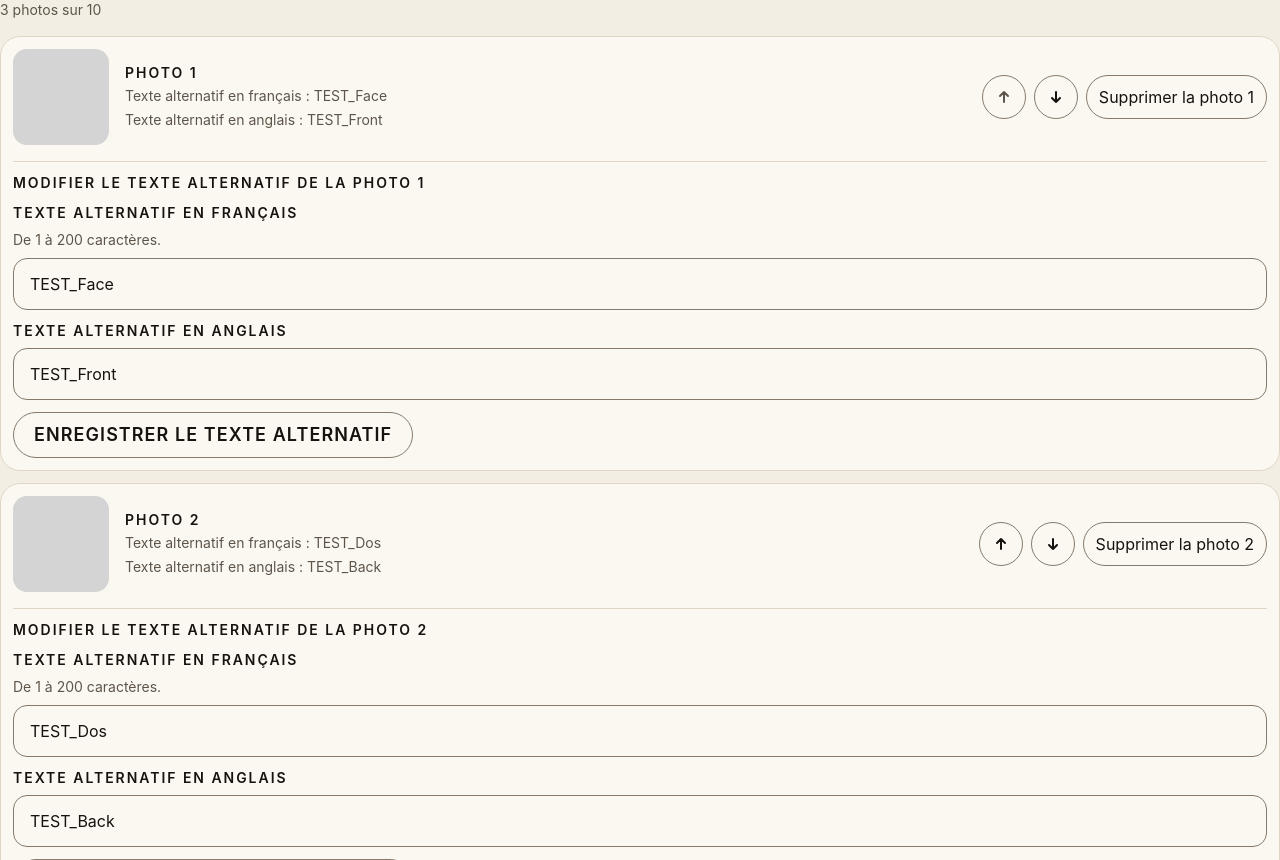
suppression d'une photo › Échap ferme la confirmation sans rien supprimer
This screenshot has width=1280, height=860.
Click the button "Supprimer la photo 1" at [1176, 97], box [1086, 75, 1267, 119]
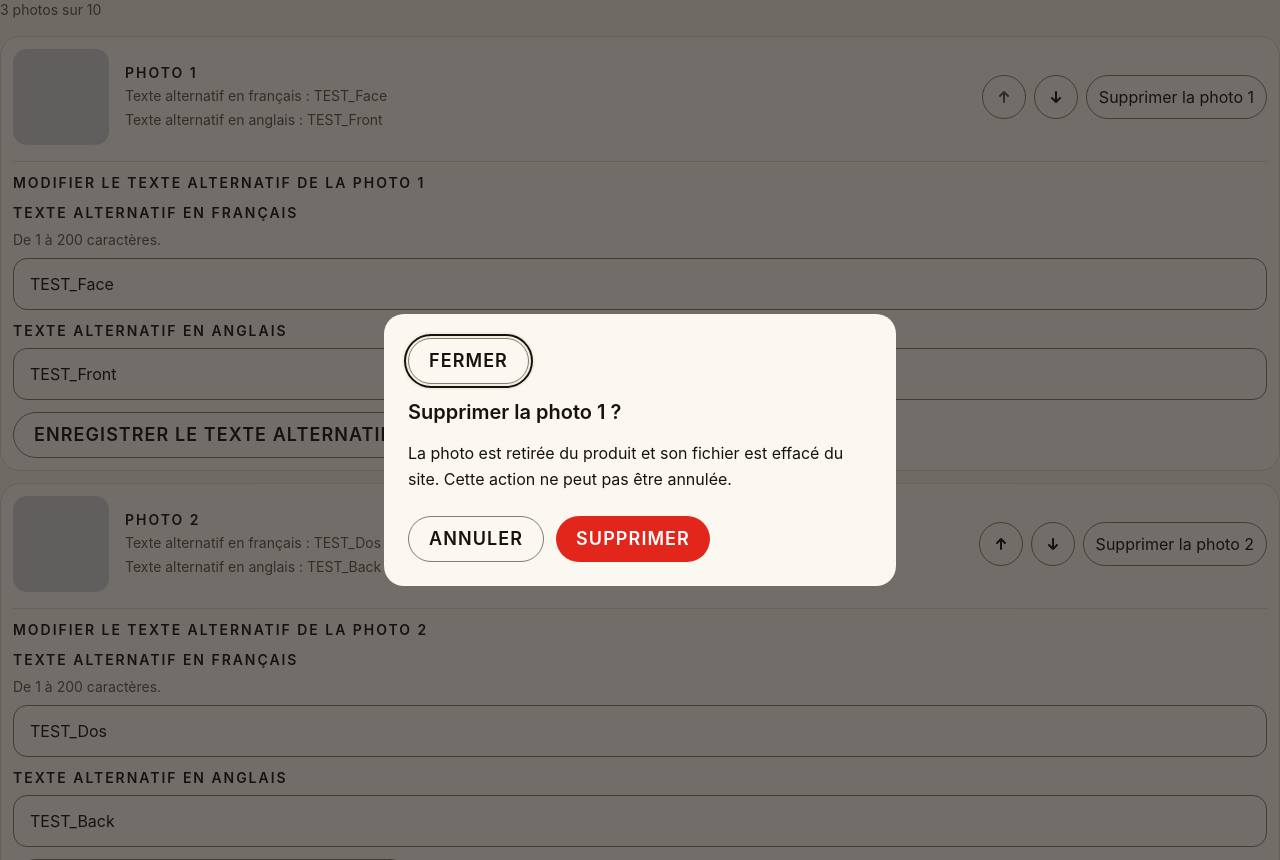
Press Escape
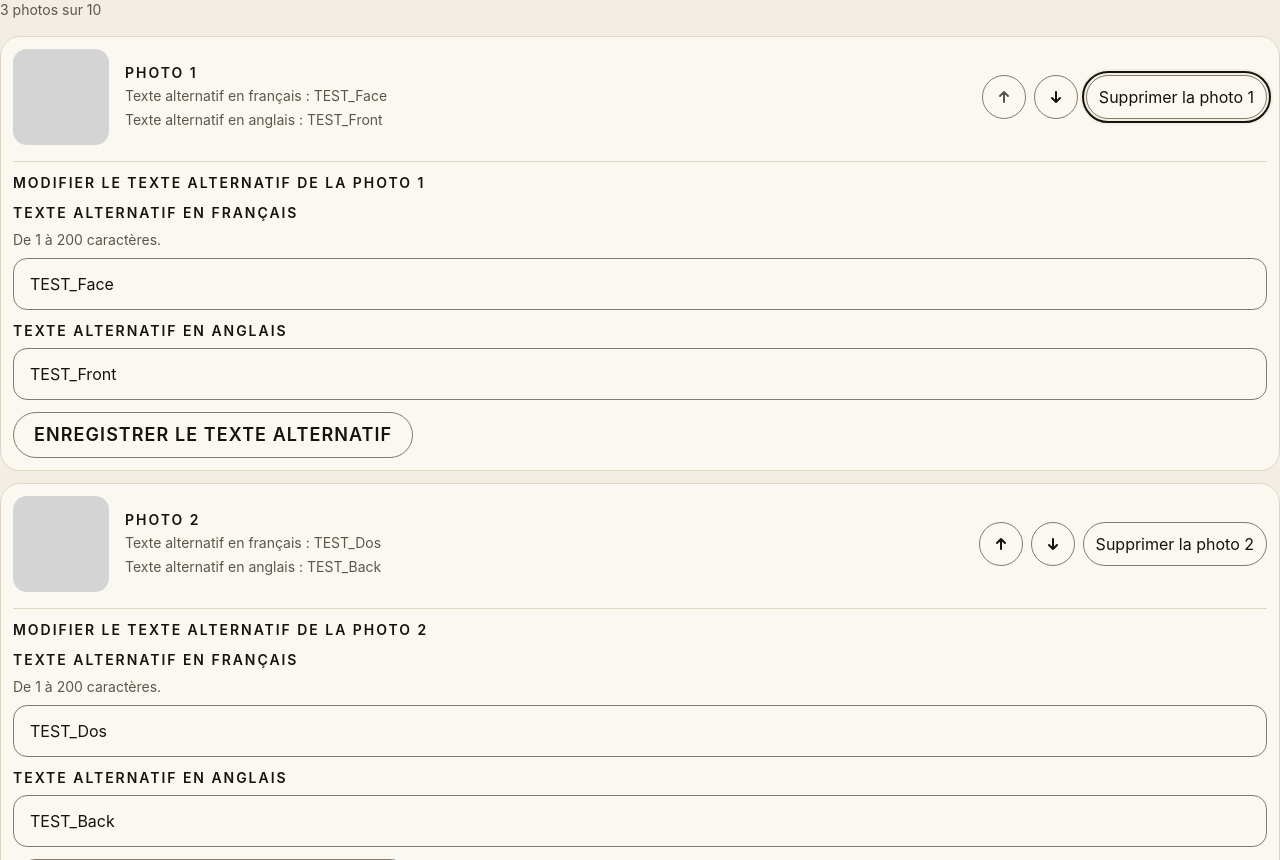
Expected: the dialog is gone
